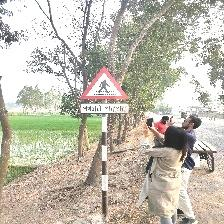Pedestrian-crossing: (79, 66, 129, 114)
